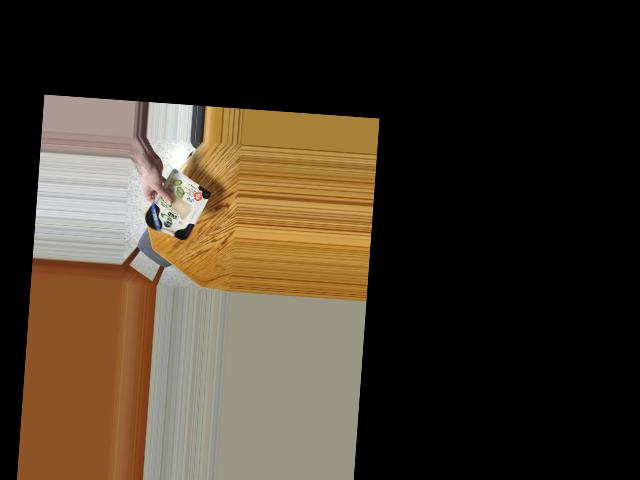cheese: (140, 173, 208, 241)
